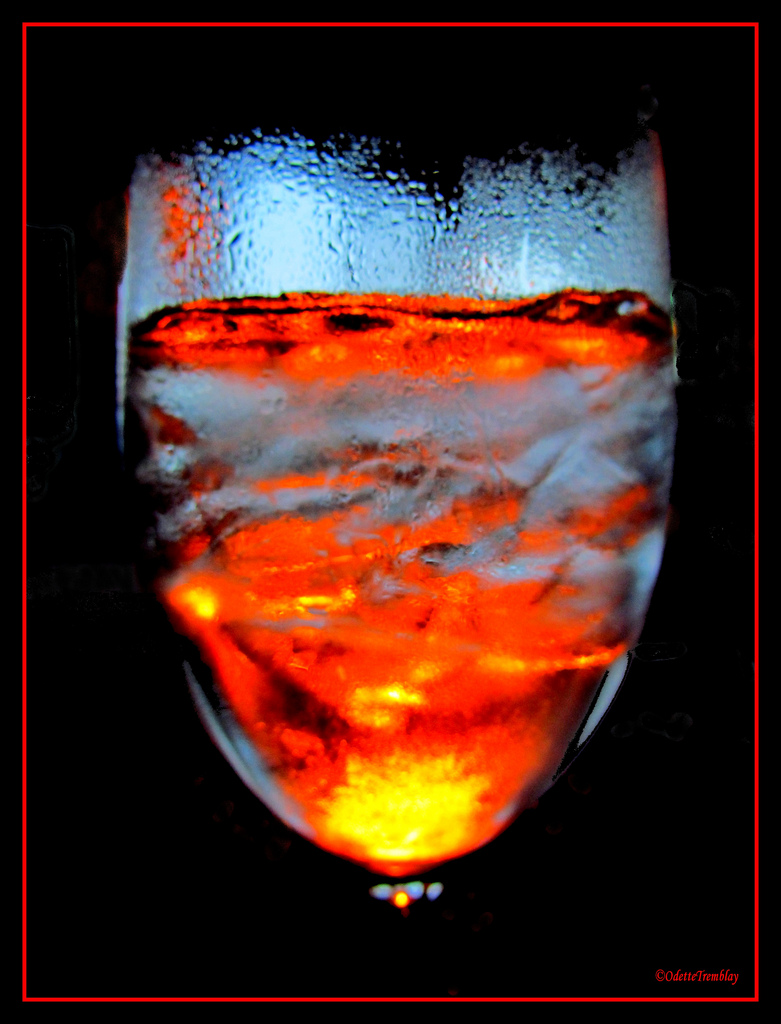glass of water: (108, 172, 676, 895)
